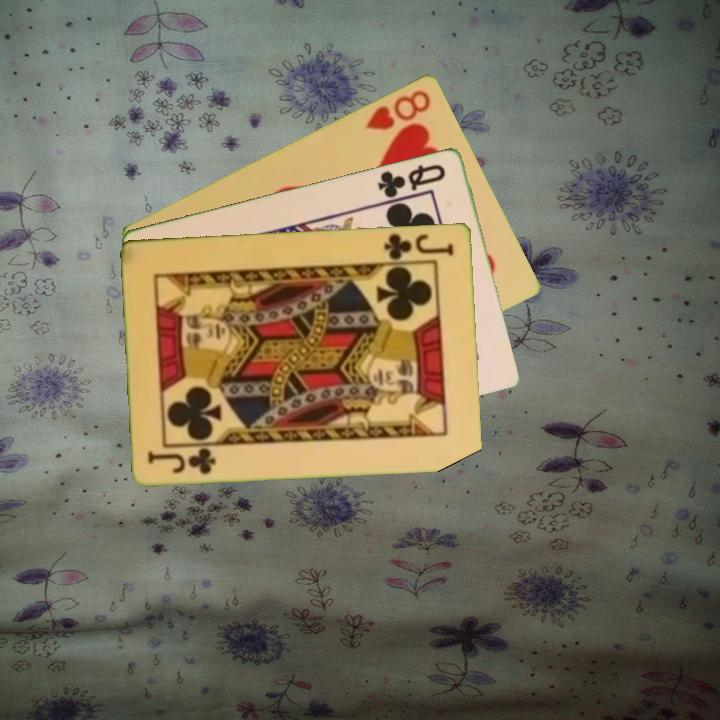8h: (362, 85, 434, 133)
Jc: (380, 230, 457, 262), (144, 445, 220, 477)
Qc: (374, 160, 449, 201)
